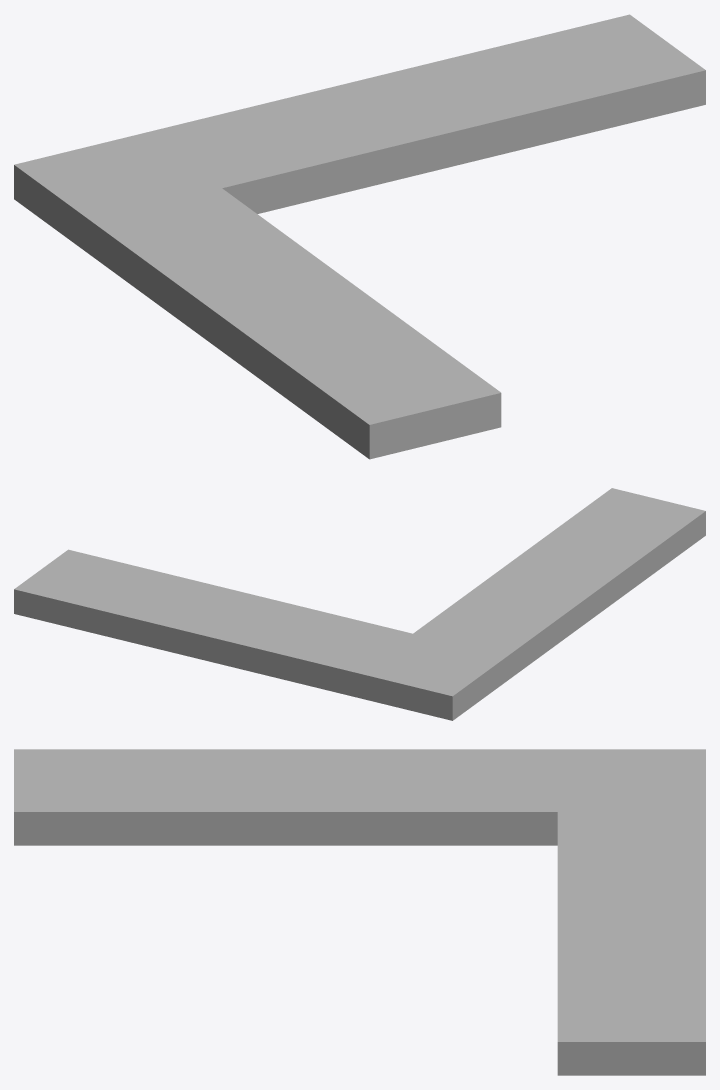
The model's file is Road_curve.fbx.
3 renders of one model, top to bottom at view 1: azimuth 30°, elevation 25°; view 2: azimuth 150°, elevation 25°; view 3: azimuth 270°, elevation 25°, orthographic. The views are drawn at different scales.
Visible parts, largest first — view 1: ObjObject; view 2: ObjObject; view 3: ObjObject.
Part boxes in pixels (bbox=[...]): ObjObject: bbox=[14, 14, 705, 459]; ObjObject: bbox=[14, 488, 705, 720]; ObjObject: bbox=[14, 749, 705, 1075].
Bounding box in the file's own units: 560 × 30 × 560.
Materials: 1 (1 with a texture image).
